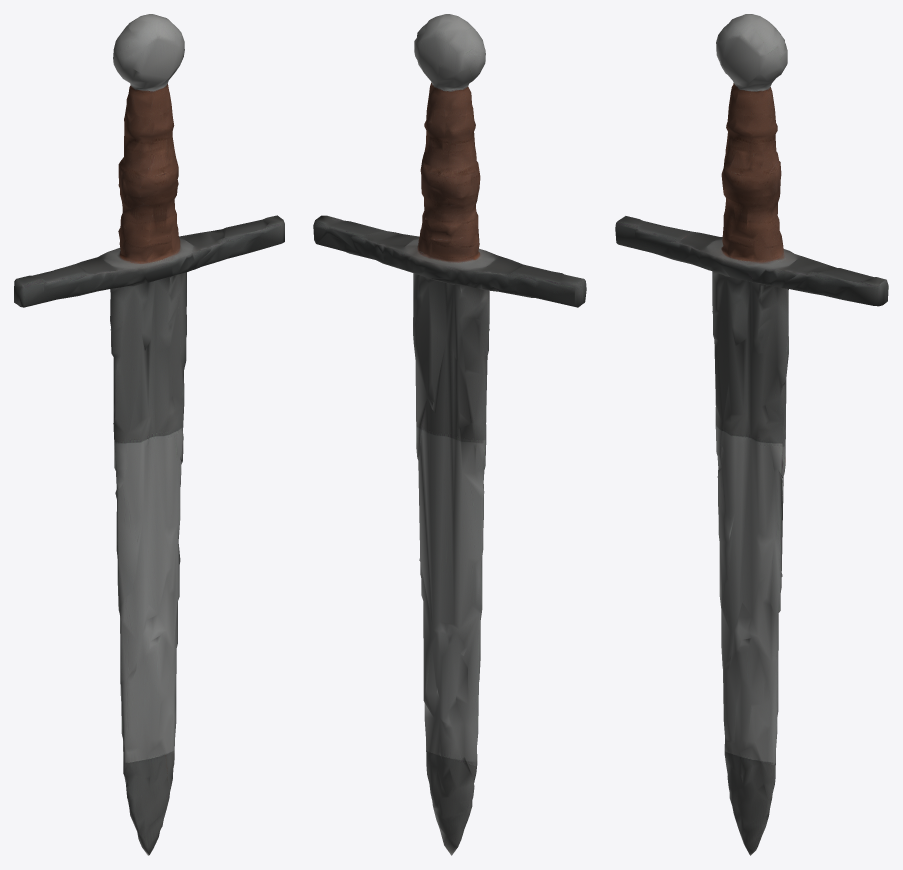
File: espada_soldado.fbx
The picture shows the model from 3 angles, left to right: view 1: azimuth 30°, elevation 25°; view 2: azimuth 150°, elevation 25°; view 3: azimuth 330°, elevation 25°; orthographic projection.
Visible parts, largest first — view 1: Mesh_0; view 2: Mesh_0; view 3: Mesh_0.
Part boxes in pixels (left/top/right/bottom): Mesh_0: left=14, top=14, right=284, bottom=855; Mesh_0: left=313, top=14, right=586, bottom=855; Mesh_0: left=615, top=14, right=888, bottom=855.
Size of the model in its own units: 63.6 by 191 by 11.66.
1 material, 1 textured.
